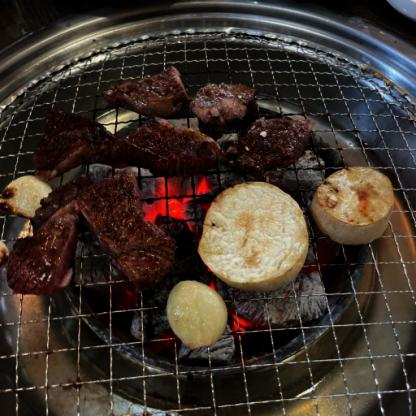Carne: (75, 169, 170, 285), (14, 186, 78, 298), (108, 116, 222, 172), (235, 113, 313, 173), (106, 70, 197, 116), (34, 104, 99, 168), (189, 76, 258, 126)
